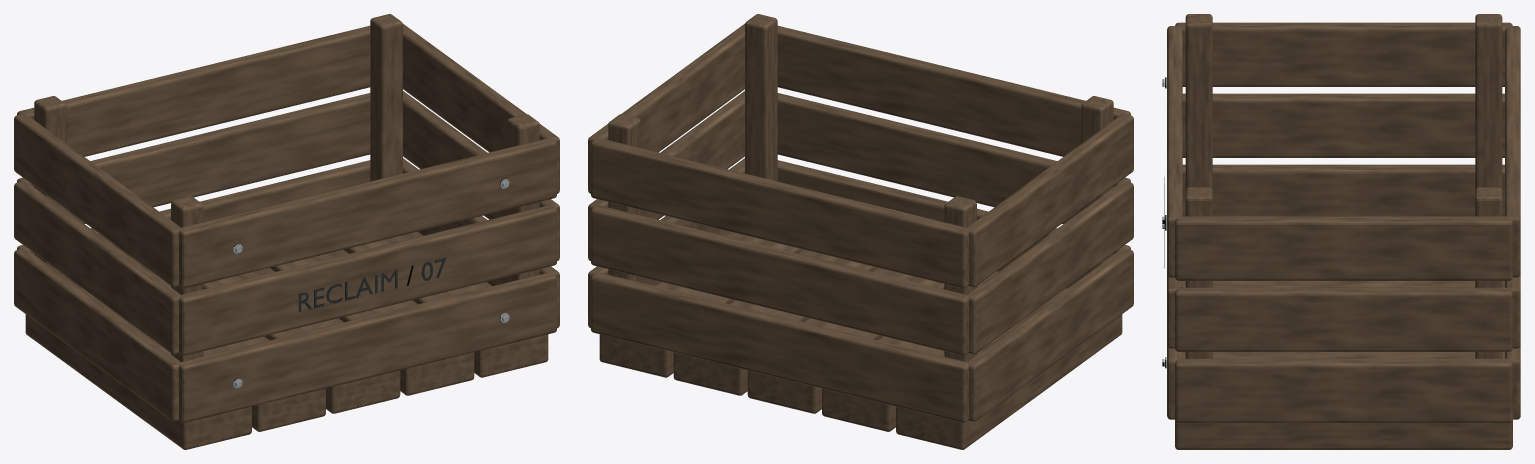
The model's file is GR_SupplyCrate_02.glb.
3 views of the same model, side by side, from view 1: azimuth 30°, elevation 25°; view 2: azimuth 150°, elevation 25°; view 3: azimuth 270°, elevation 25° (orthographic). The views are drawn at different scales.
Visible parts, largest first — view 1: Static; view 2: Static; view 3: Static.
Boxes of the visible parts, box(x1,y1,x2,y2) form: Static: box(14, 14, 559, 449); Static: box(588, 14, 1133, 449); Static: box(1162, 14, 1520, 449).
Size of the model in its own units: 0.786 by 0.46 by 0.5941.
1 material, 1 textured.
